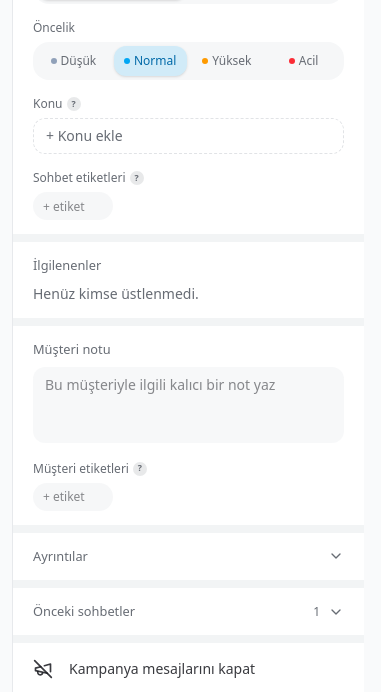
Test: TicketPanel › drops the past chats of a customer no longer shown
This screenshot has width=381, height=692.
(page scrolled)
Click the button "Önceki sohbetler 1".
click(84, 611)  # box [13,588,364,635]
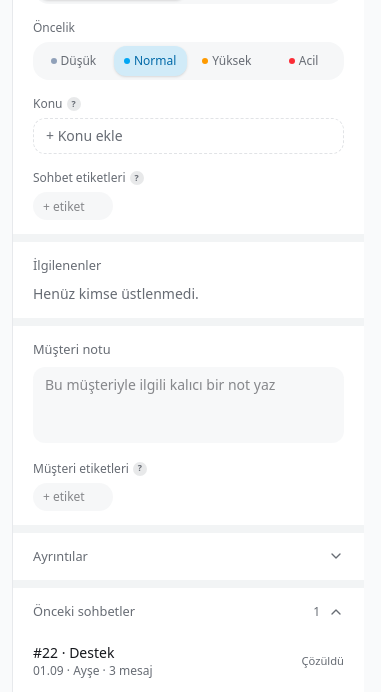
Expected: the text "#22" is shown, [33,643,114,662]
